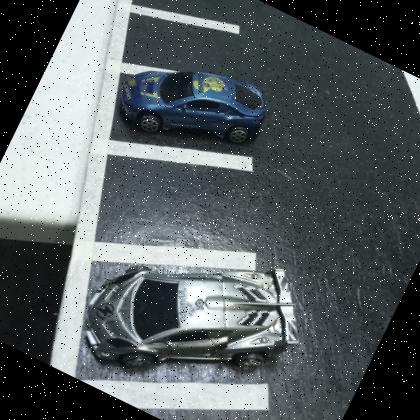Car: (66, 195, 328, 420), (106, 29, 280, 178)
